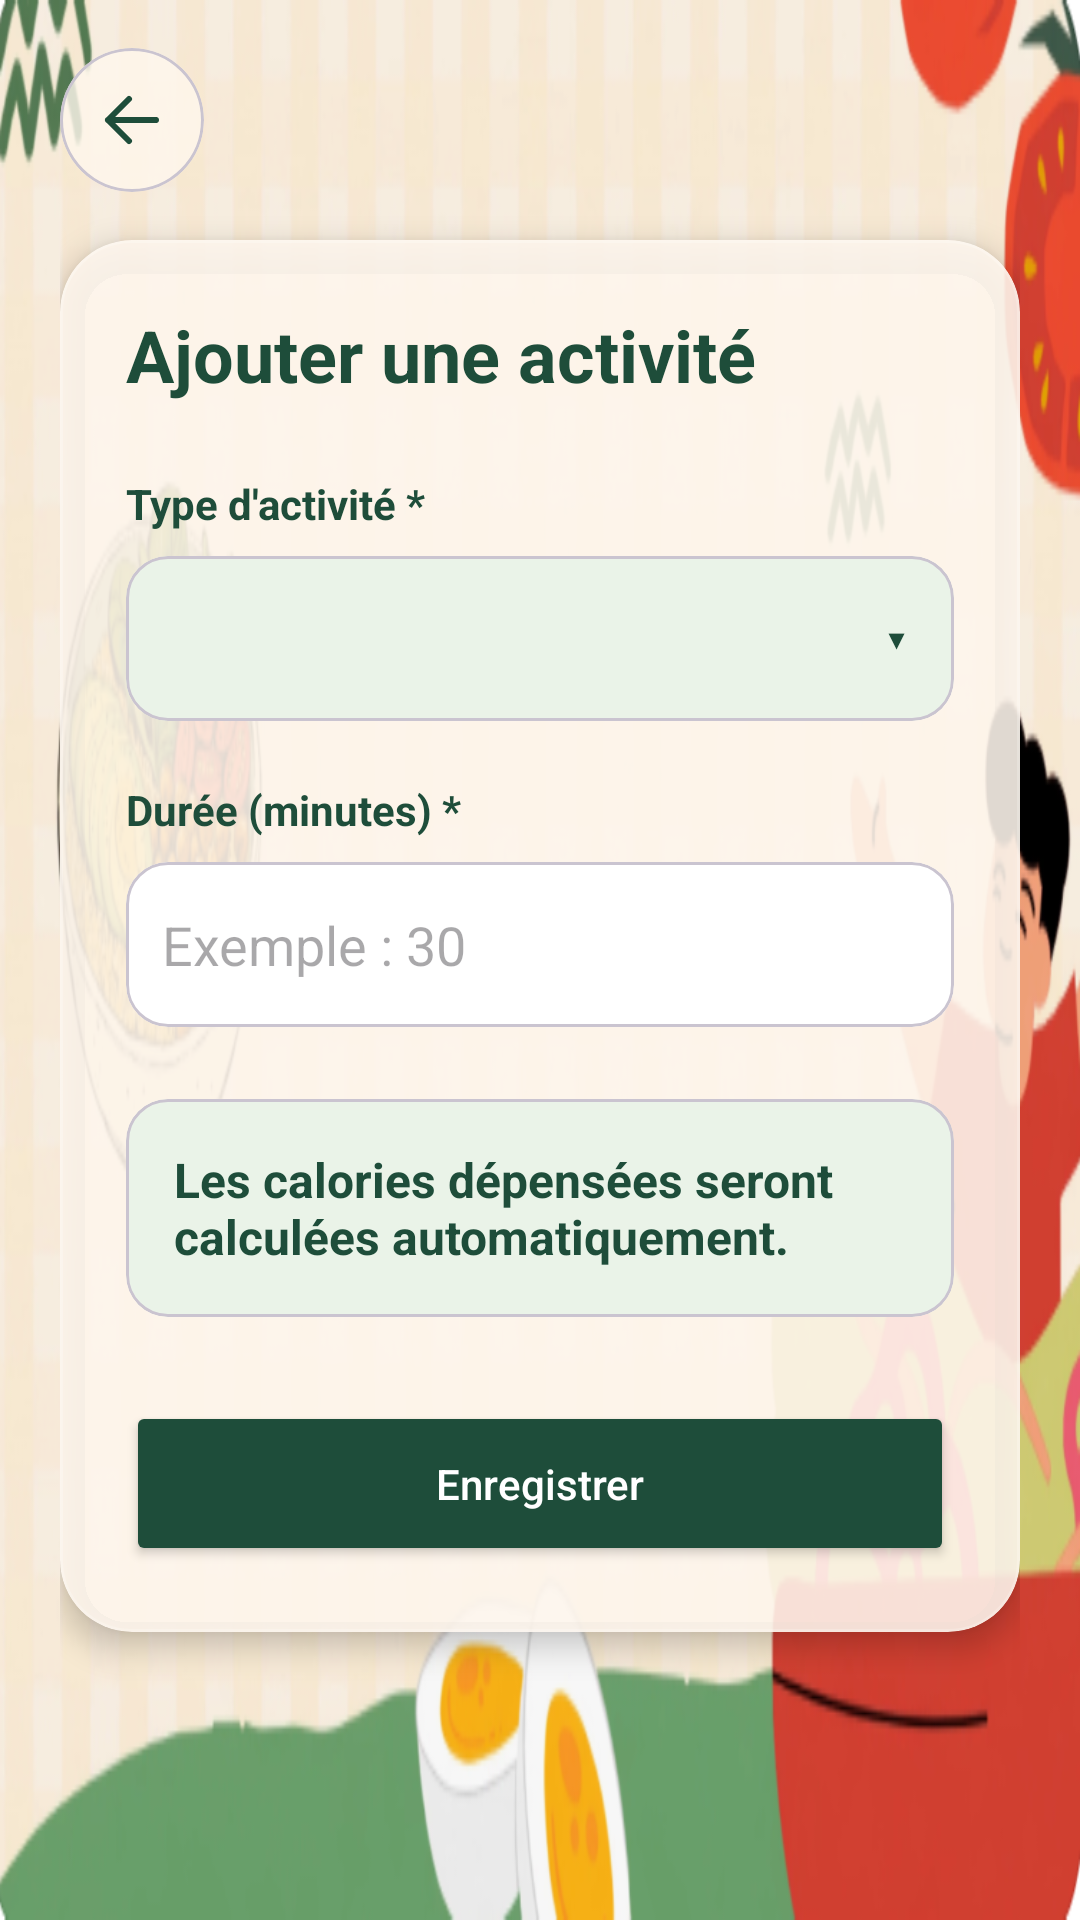

Icon click points for this 1080*1920 phone screenshot, format (x,y):
Retour: (132,120)
